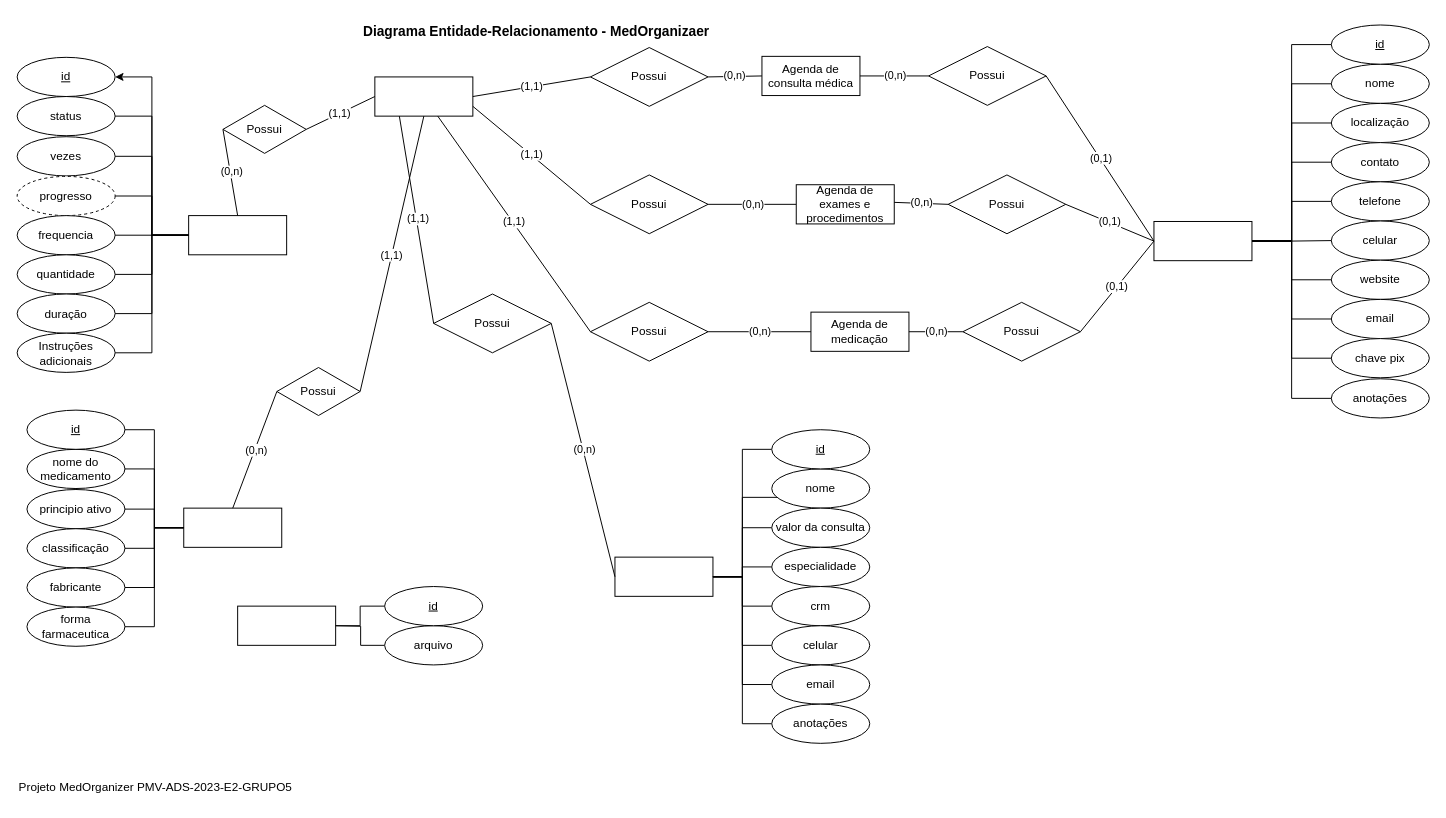
The diagram is 1446 pixels wide and 818 high, and some of its shapes have lost their labels. The shapes that lost their labels are listed below. From the top down, each one's box as (x1, y1, x2, y2) in pixels, then its label:
(374, 76, 473, 116): Usuário
(188, 215, 287, 255): Prescrição
(1153, 220, 1252, 261): Clinica / Laboratório
(183, 507, 282, 547): Medicamento
(614, 556, 713, 596): Médico
(237, 605, 336, 645): Documento
